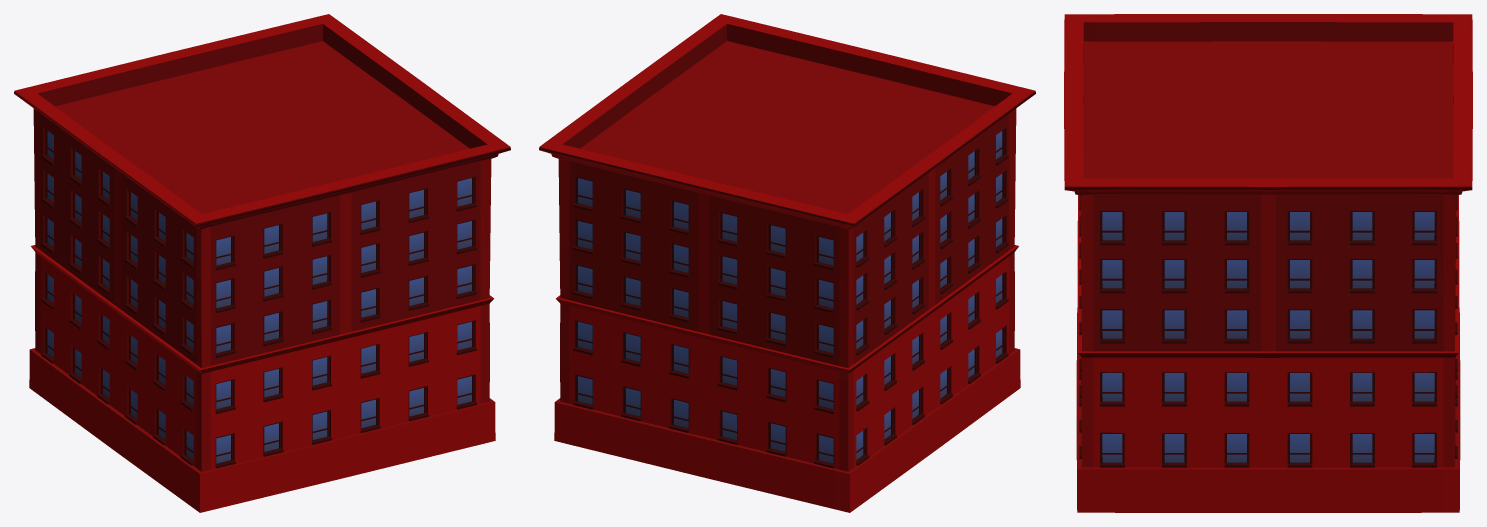
The model's file is Mesh.LoftGrey.fbx.
3 views of the same model, side by side, from view 1: azimuth 30°, elevation 25°; view 2: azimuth 150°, elevation 25°; view 3: azimuth 270°, elevation 25° (orthographic). The views are drawn at different scales.
Visible parts, largest first — view 1: base.183, windowRefl.141; view 2: base.183, windowRefl.141; view 3: base.183, windowRefl.141.
Part boxes in pixels (x1,y1,x2,y2): base.183: (14,14,510,512); windowRefl.141: (47,131,471,463); base.183: (539,14,1035,512); windowRefl.141: (578,131,1002,463); base.183: (1064,14,1472,512); windowRefl.141: (1102,212,1434,462).
Bounding box in the file's own units: 2390 × 2390 × 2137.
